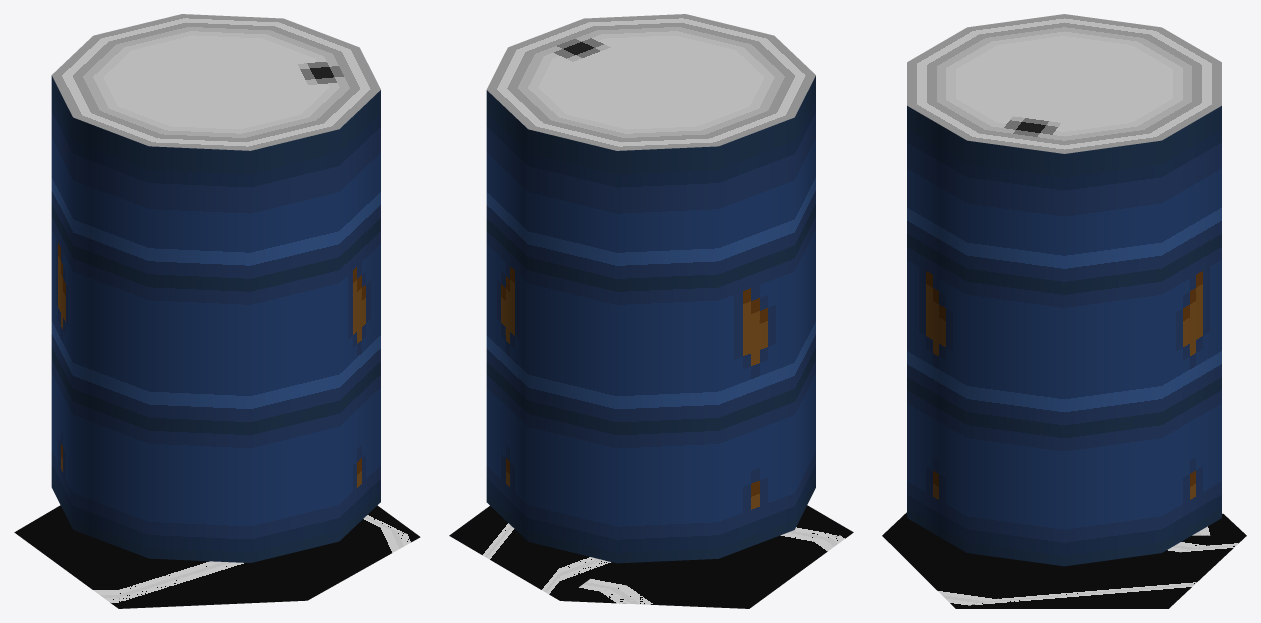
3 renders of one model, left to right at view 1: azimuth 30°, elevation 25°; view 2: azimuth 150°, elevation 25°; view 3: azimuth 270°, elevation 25°, orthographic.
Visible parts, largest first — view 1: polygon0, polygon1, polygon2; view 2: polygon0, polygon1, polygon2; view 3: polygon0, polygon1, polygon2.
Boxes of the visible parts, <box> form: polygon0: <box>51,75,380,562</box>; polygon1: <box>52,14,380,150</box>; polygon2: <box>14,505,420,608</box>; polygon0: <box>486,76,815,563</box>; polygon1: <box>486,14,815,150</box>; polygon2: <box>449,505,853,608</box>; polygon0: <box>907,106,1221,566</box>; polygon1: <box>907,14,1221,153</box>; polygon2: <box>882,512,1246,608</box>.
Size of the model in its own units: 4 by 5.75 by 4.21.
